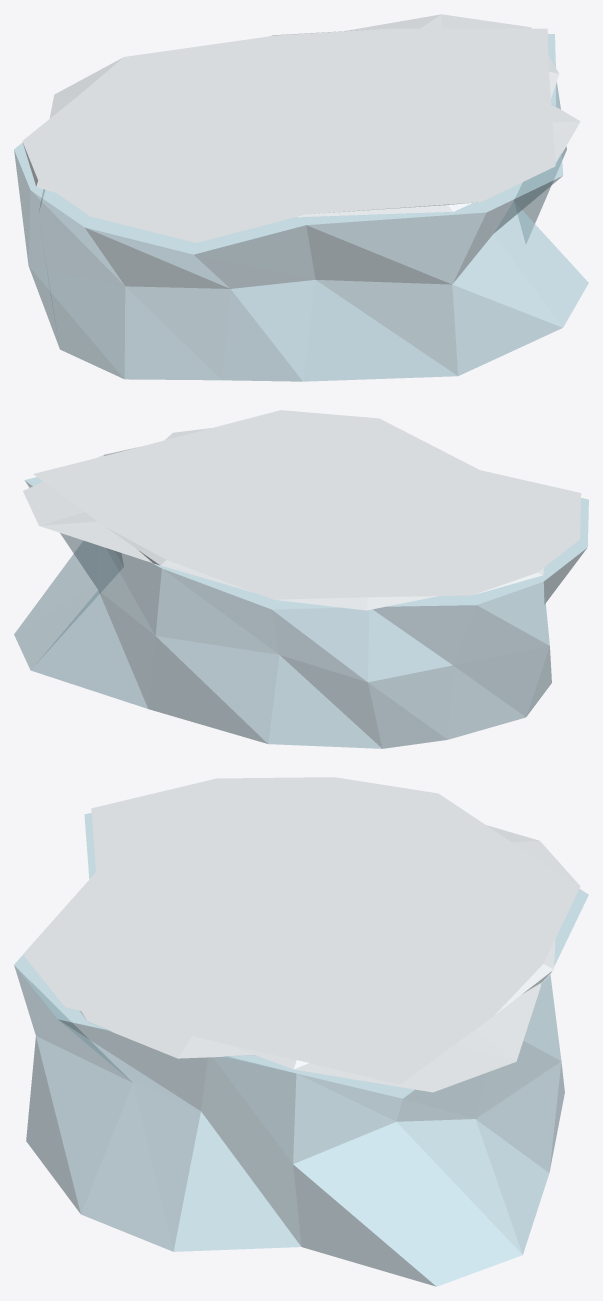
Rendered from alpine-and-arctic-biomes-tabular-iceberg-ecb44f4c__21046.glb.
3 renders of one model, top to bottom at view 1: azimuth 30°, elevation 25°; view 2: azimuth 150°, elevation 25°; view 3: azimuth 270°, elevation 25°, orthographic. The views are drawn at different scales.
Parts seen in each view (by area): view 1: tabular-iceberg; view 2: tabular-iceberg; view 3: tabular-iceberg.
Part boxes in pixels (x1,y1,x2,y2): tabular-iceberg: (14, 14, 588, 381); tabular-iceberg: (14, 410, 588, 748); tabular-iceberg: (14, 777, 588, 1286).
Size of the model in its own units: 14.43 by 4.2 by 10.99.
